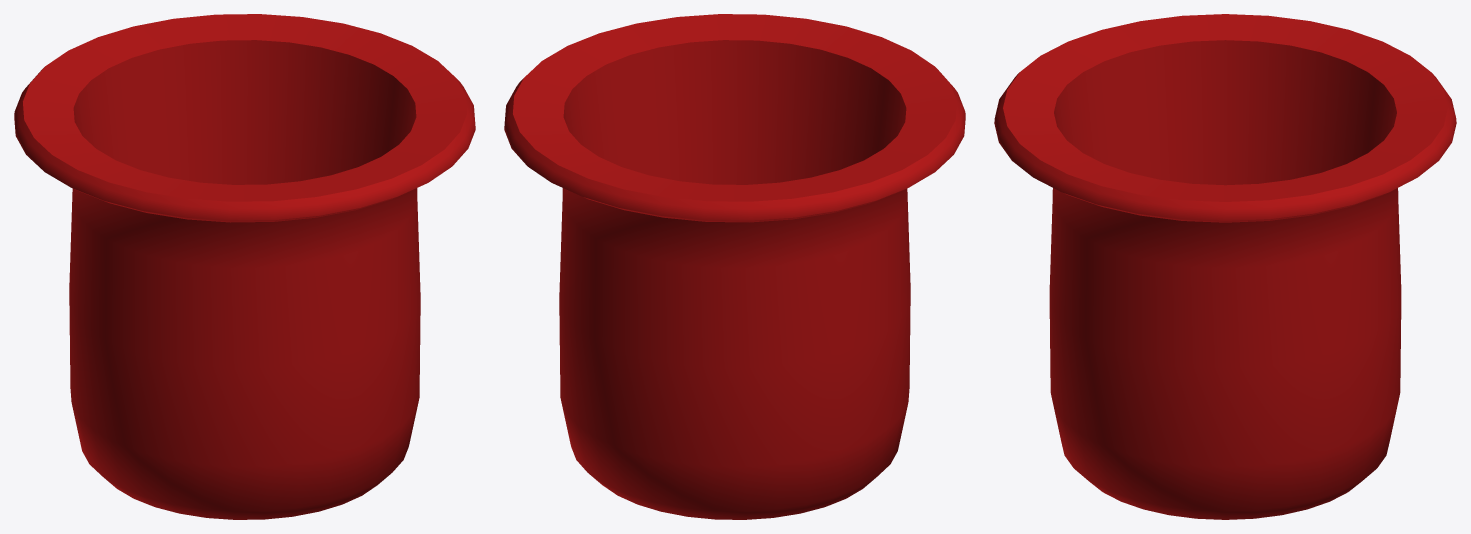
The model's file is Pote_03.fbx.
3 renders of one model, left to right at view 1: azimuth 30°, elevation 25°; view 2: azimuth 150°, elevation 25°; view 3: azimuth 270°, elevation 25°, orthographic.
Parts seen in each view (by area): view 1: Pote_03; view 2: Pote_03; view 3: Pote_03.
Part boxes in pixels (left/top/right/bottom): Pote_03: left=14, top=14, right=475, bottom=519; Pote_03: left=504, top=14, right=965, bottom=519; Pote_03: left=994, top=14, right=1456, bottom=519.
Bounding box in the file's own units: 24.52 × 20.46 × 24.52.
